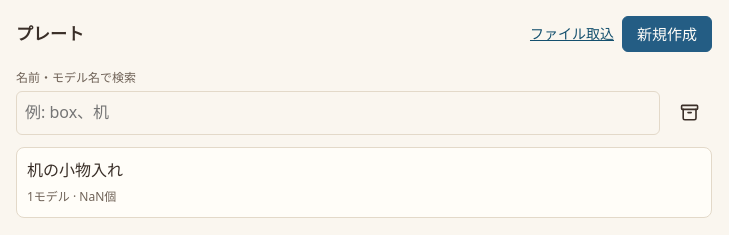
opens saved plates and filters using server-ranked search results
This screenshot has width=729, height=235.
Expected: the link "新規作成" is shown, [622, 16, 712, 52]
In the search field: (338, 113) [16, 91, 660, 135], type "missing"
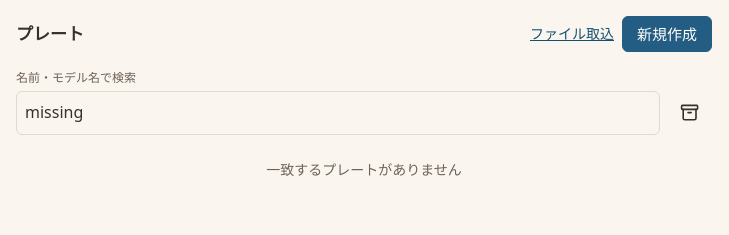
Result: the text "一致するプレートがありません" is shown at [266, 160, 462, 179]
